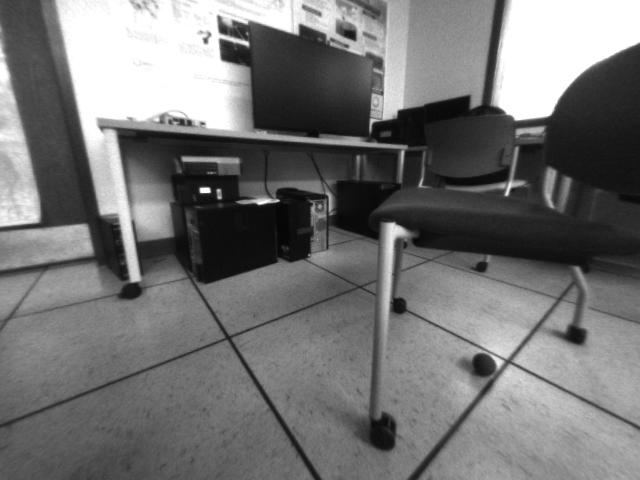dogtoy: (464, 346, 502, 386)
